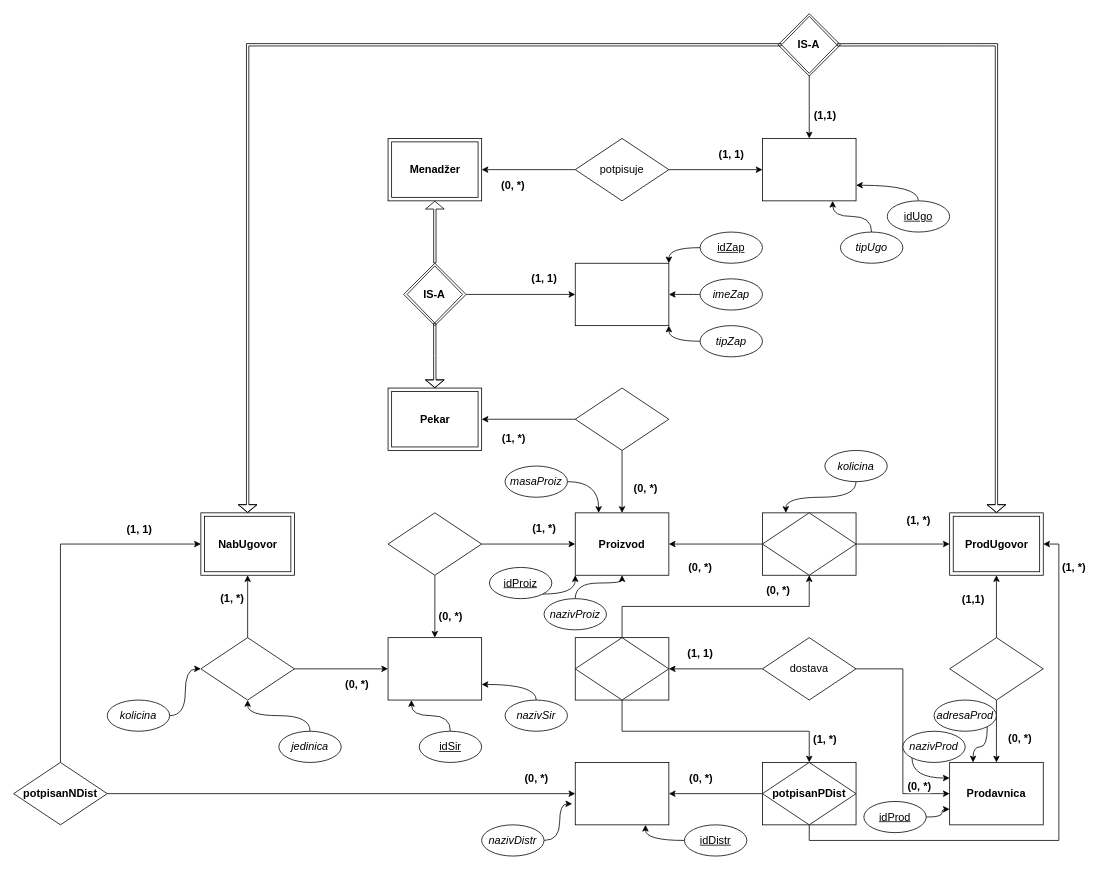
The diagram is 1101 pixels wide and 870 high, and some of its shapes have lost their labels. The shapes that lost their labels are listed below. From the top down, each one's centre as x and y in pixels, then its label:
At point (809, 169): "Ugovor".
At point (621, 294): "Zaposleni".
At point (621, 418): "pravi".
At point (434, 543): "sastav".
At point (809, 543): "obuhvataProiz".
At point (247, 668): "obuhvataSir".
At point (434, 668): "Sirovina".
At point (621, 668): "isporučuje".
At point (996, 668): "potpisanP".
At point (621, 793): "Distributer".
